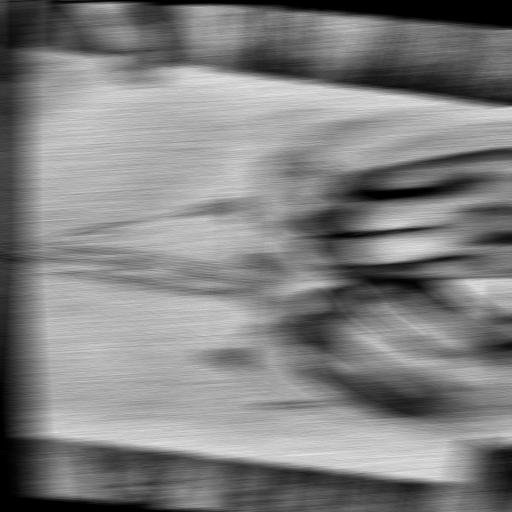boat: (0, 117, 445, 425)
bottom_right: (444, 479, 471, 488)
